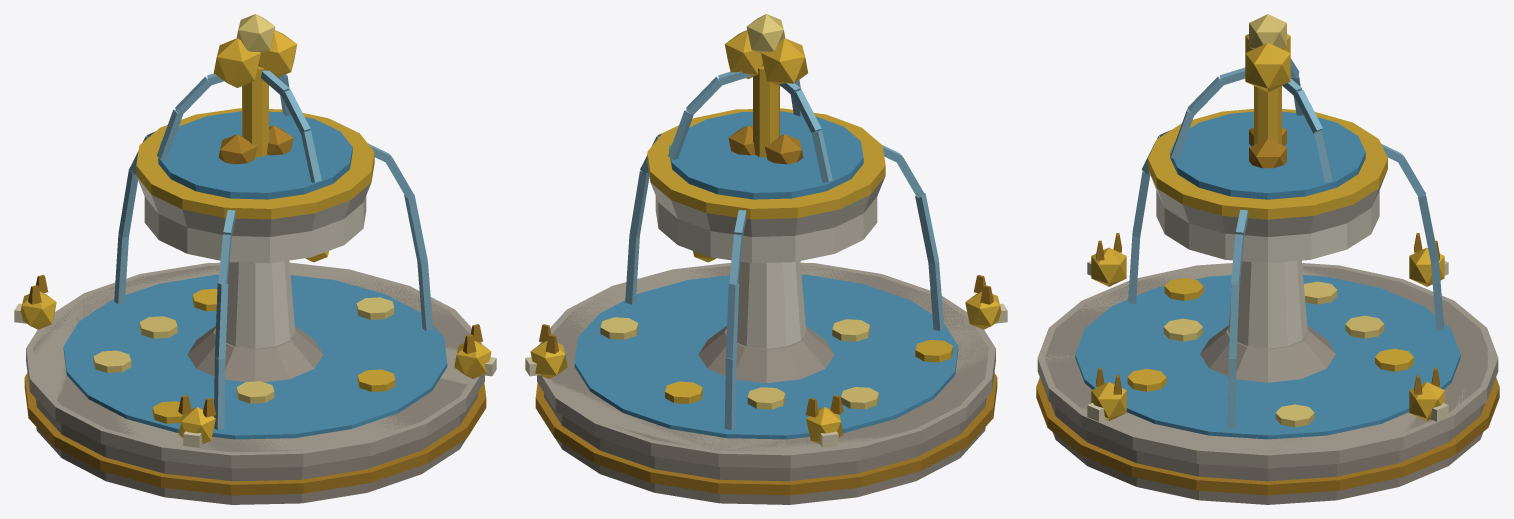
Rendered from Decor_DogeAltar_Fountain.fbx.
3 views of the same model, side by side, from view 1: azimuth 30°, elevation 25°; view 2: azimuth 150°, elevation 25°; view 3: azimuth 270°, elevation 25° (orthographic).
Visible parts, largest first — view 1: Fountain_Body; view 2: Fountain_Body; view 3: Fountain_Body.
Boxes of the visible parts, x1=… form: Fountain_Body: x1=14, y1=14, x2=496, y2=504; Fountain_Body: x1=525, y1=14, x2=1007, y2=504; Fountain_Body: x1=1036, y1=14, x2=1499, y2=504.
Size of the model in its own units: 16 by 15.1 by 16.
